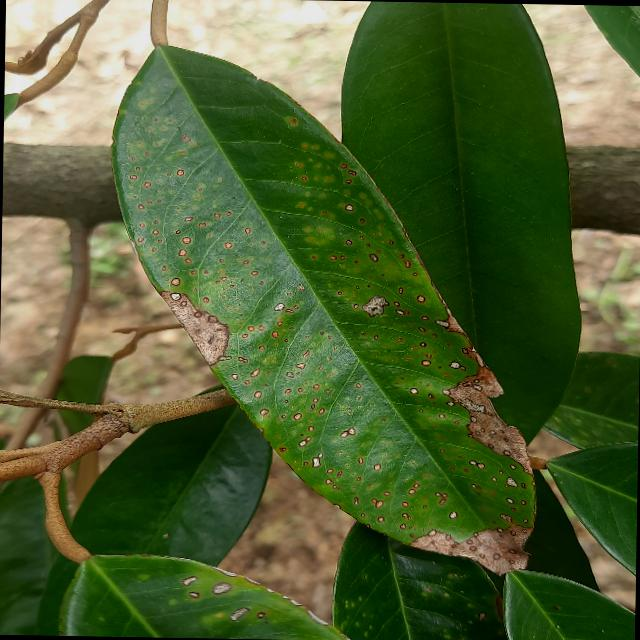Leaf Spot: (94, 33, 566, 579)
